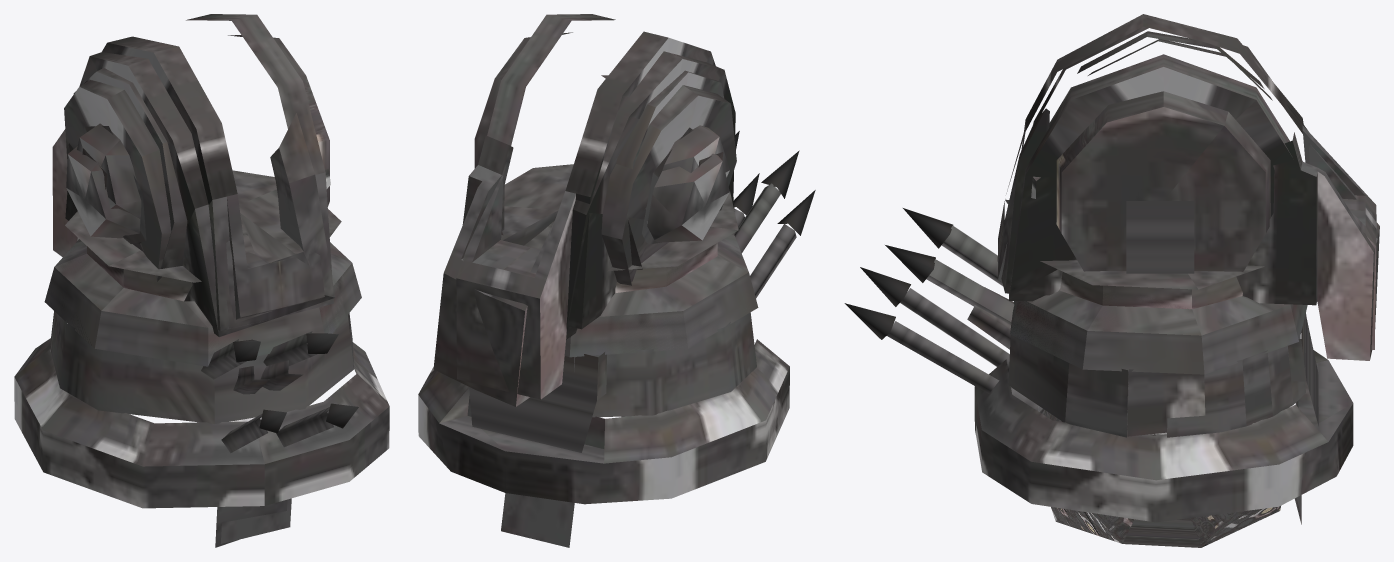
The model's file is aaturret.far.glb.
3 views of the same model, side by side, from view 1: azimuth 30°, elevation 25°; view 2: azimuth 150°, elevation 25°; view 3: azimuth 270°, elevation 25° (orthographic).
Size of the model in its own units: 3.37 by 4.86 by 4.82.
1 material, 1 textured.
